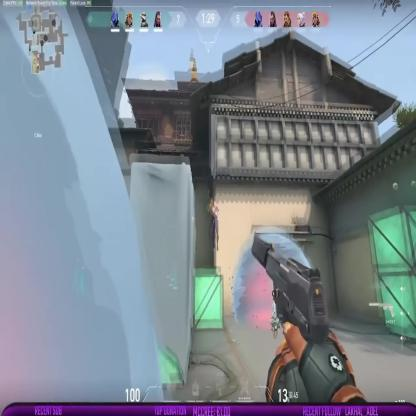enemy: (209, 201, 219, 249)
enemy_head: (212, 200, 216, 208)
